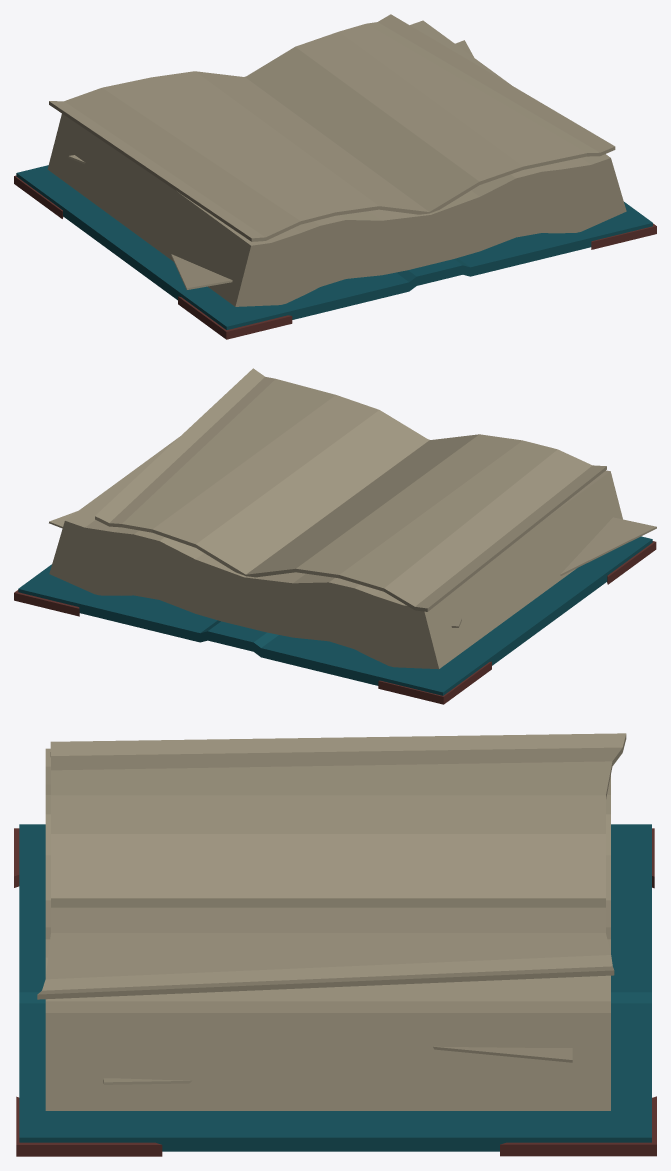
Rendered from book4_open.glb.
3 renders of one model, top to bottom at view 1: azimuth 30°, elevation 25°; view 2: azimuth 150°, elevation 25°; view 3: azimuth 270°, elevation 25°, orthographic. The views are drawn at different scales.
Parts seen in each view (by area): view 1: Book4_Open; view 2: Book4_Open; view 3: Book4_Open.
Part boxes in pixels (x1,y1,x2,y2): Book4_Open: (14, 14, 656, 339); Book4_Open: (14, 368, 656, 704); Book4_Open: (14, 733, 656, 1156).
Size of the model in its own units: 0.9176 by 0.1764 by 0.7521.
